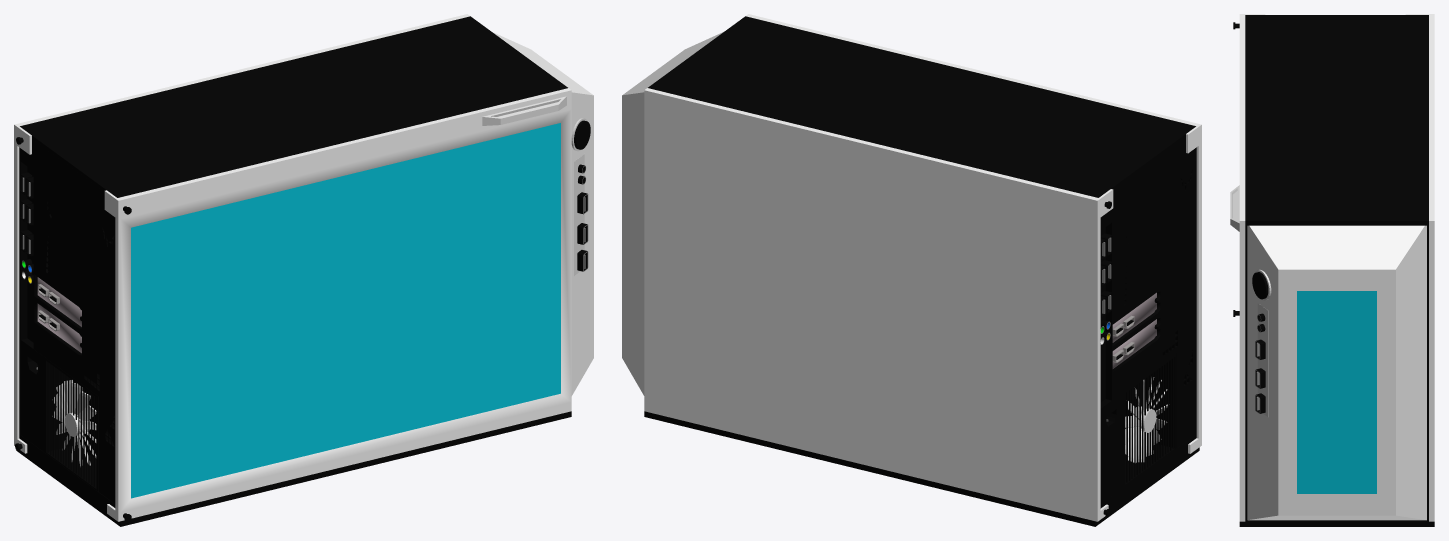
Rendered from case2.fbx.
The picture shows the model from 3 angles, left to right: view 1: azimuth 30°, elevation 25°; view 2: azimuth 150°, elevation 25°; view 3: azimuth 270°, elevation 25°; orthographic projection. The views are drawn at different scales.
Visible parts, largest first — view 1: right, Plane, back, power, frontglass, left, powerfan, USB; view 2: left, Plane, back, frontglass, power, right, powerfan; view 3: frontglass, Plane, right, left, USB, powerbutton.
Part boxes in pixels (bbox=[...]): right: bbox=[104, 88, 571, 521]; Plane: bbox=[16, 16, 571, 526]; back: bbox=[19, 166, 115, 503]; power: bbox=[21, 338, 98, 491]; frontglass: bbox=[492, 32, 593, 395]; left: bbox=[14, 14, 469, 453]; powerfan: bbox=[52, 380, 96, 466]; USB: bbox=[571, 118, 588, 275]; left: bbox=[644, 88, 1113, 521]; Plane: bbox=[644, 16, 1199, 526]; back: bbox=[1100, 162, 1195, 447]; frontglass: bbox=[622, 32, 723, 395]; power: bbox=[1100, 353, 1176, 503]; right: bbox=[746, 14, 1201, 453]; powerfan: bbox=[1125, 377, 1167, 462]; frontglass: bbox=[1247, 225, 1426, 520]; Plane: bbox=[1239, 15, 1434, 526]; right: bbox=[1230, 14, 1265, 521]; left: bbox=[1405, 14, 1434, 521]; USB: bbox=[1255, 269, 1271, 417]; powerbutton: bbox=[1252, 272, 1268, 299].
Size of the model in its own units: 27.74 by 17.3 by 10.48.
